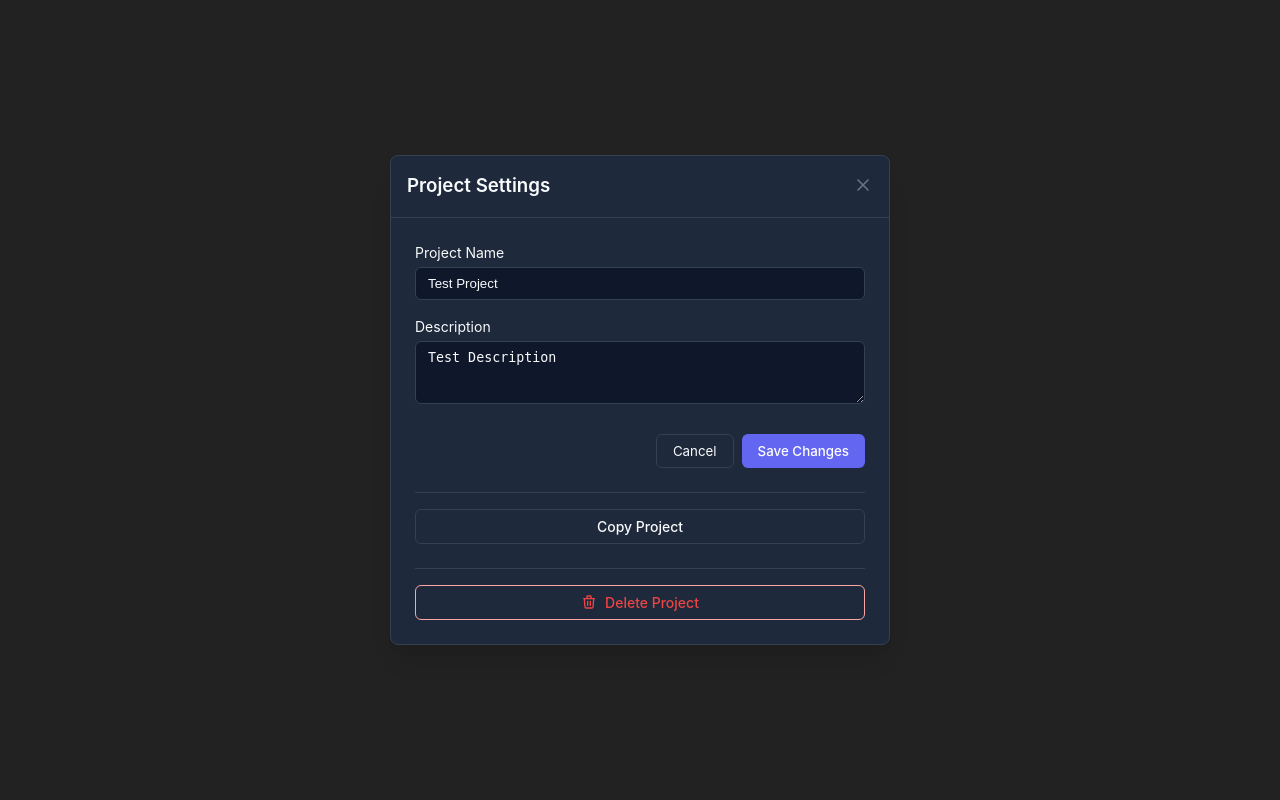
Scenario: ProjectSettingsModal › Copy Project › should open copy dialog when Copy Project button is clicked
This screenshot has width=1280, height=800.
Click the button "Copy Project" at (640, 526), box [415,508,865,544]
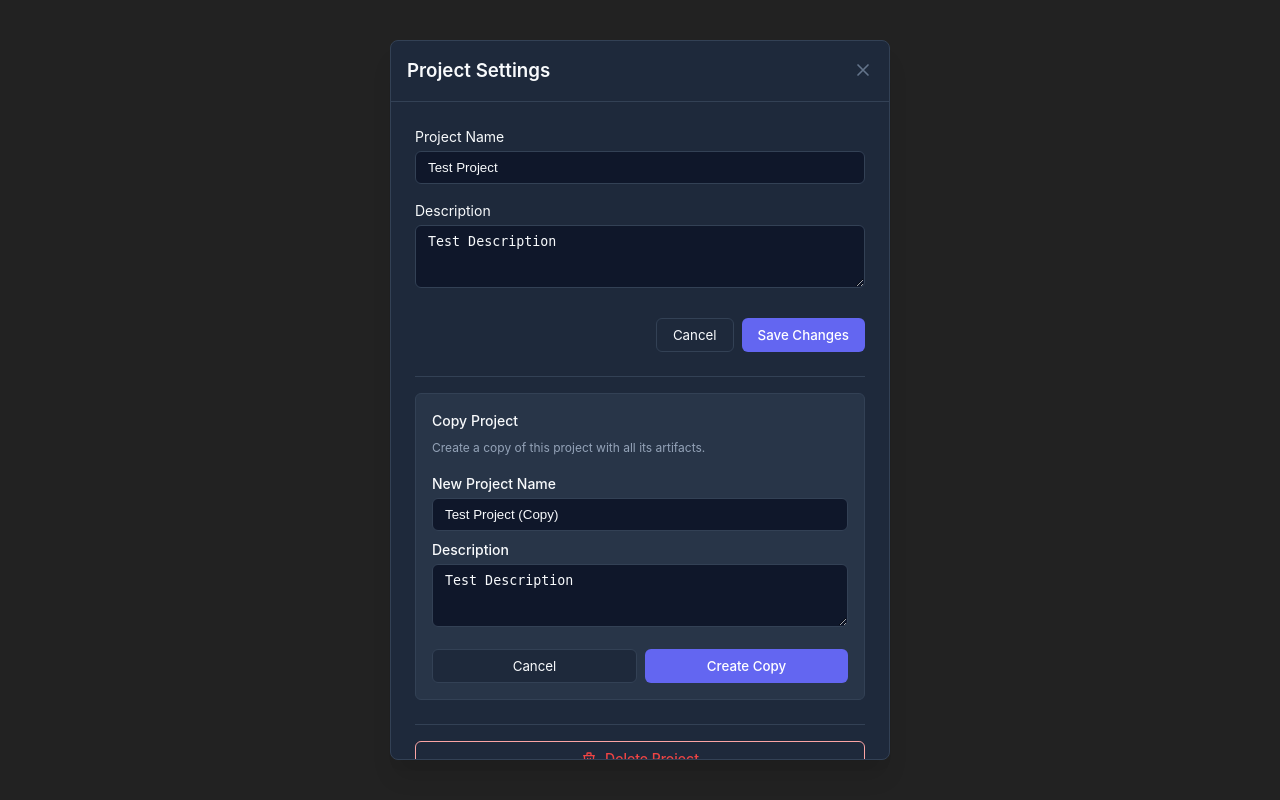
Now the text "Create a copy of this project with all its artifacts." is shown, box [432,440,705,455]
Now the field showing "Test Project (Copy)" is shown, box [432,498,848,531]
